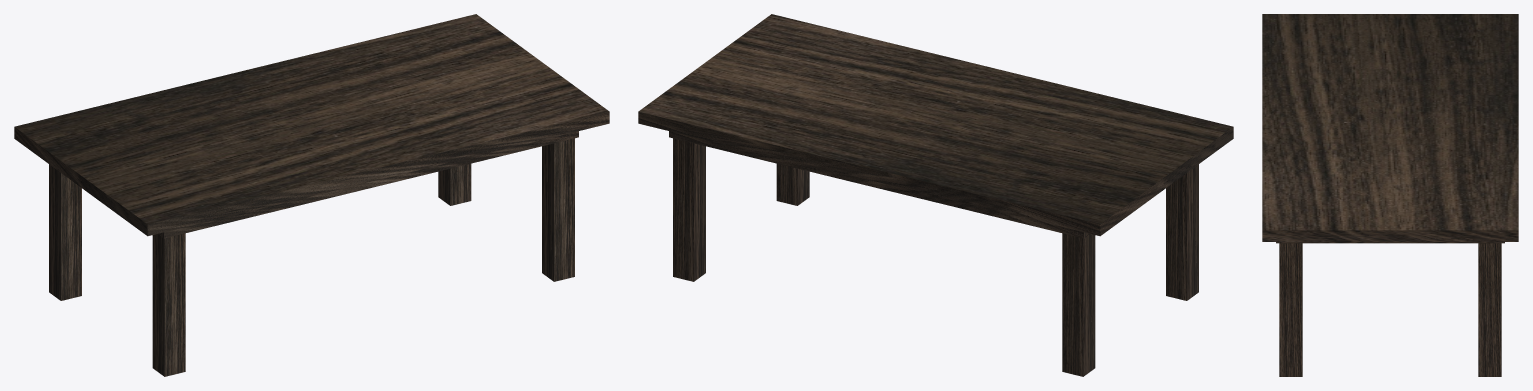
Rendered from table2.glb.
3 views of the same model, side by side, from view 1: azimuth 30°, elevation 25°; view 2: azimuth 150°, elevation 25°; view 3: azimuth 270°, elevation 25° (orthographic). The views are drawn at different scales.
Parts seen in each view (by area): view 1: Cube, Cube.004, Cube.003, Cube.001, Cube.006, Cube.002; view 2: Cube, Cube.001, Cube.002, Cube.004, Cube.007, Cube.003; view 3: Cube, Cube.002, Cube.003, Cube.005.
Part boxes in pixels (<box>): Cube: <box>14,14,609,236</box>; Cube.004: <box>152,233,185,376</box>; Cube.003: <box>542,138,574,281</box>; Cube.001: <box>49,164,81,300</box>; Cube.006: <box>162,131,578,238</box>; Cube.002: <box>438,163,471,205</box>; Cube: <box>638,14,1233,236</box>; Cube.001: <box>1062,233,1095,376</box>; Cube.002: <box>673,138,705,281</box>; Cube.004: <box>1166,164,1198,300</box>; Cube.007: <box>669,131,1085,238</box>; Cube.003: <box>776,163,809,205</box>; Cube: <box>1262,14,1518,241</box>; Cube.002: <box>1478,243,1501,376</box>; Cube.003: <box>1279,243,1302,376</box>; Cube.005: <box>1280,242,1500,243</box>.
Size of the model in its own units: 8.8 by 3.01 by 4.4.
Materials: 1 (1 with a texture image).
